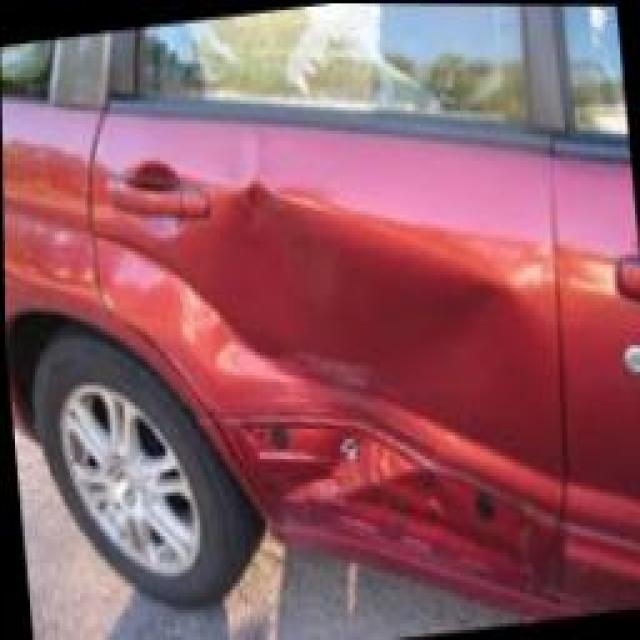Door: (99, 101, 560, 603)
Fender: (1, 94, 98, 303)
